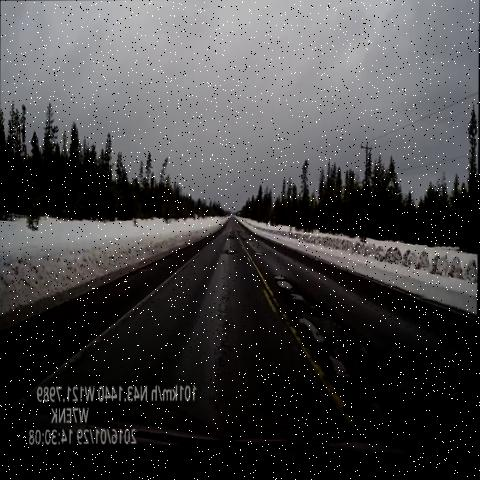pothole: (320, 342, 355, 388), (298, 307, 330, 353), (270, 272, 296, 296), (290, 292, 312, 308), (223, 244, 242, 262), (227, 226, 241, 245), (252, 251, 270, 261)
